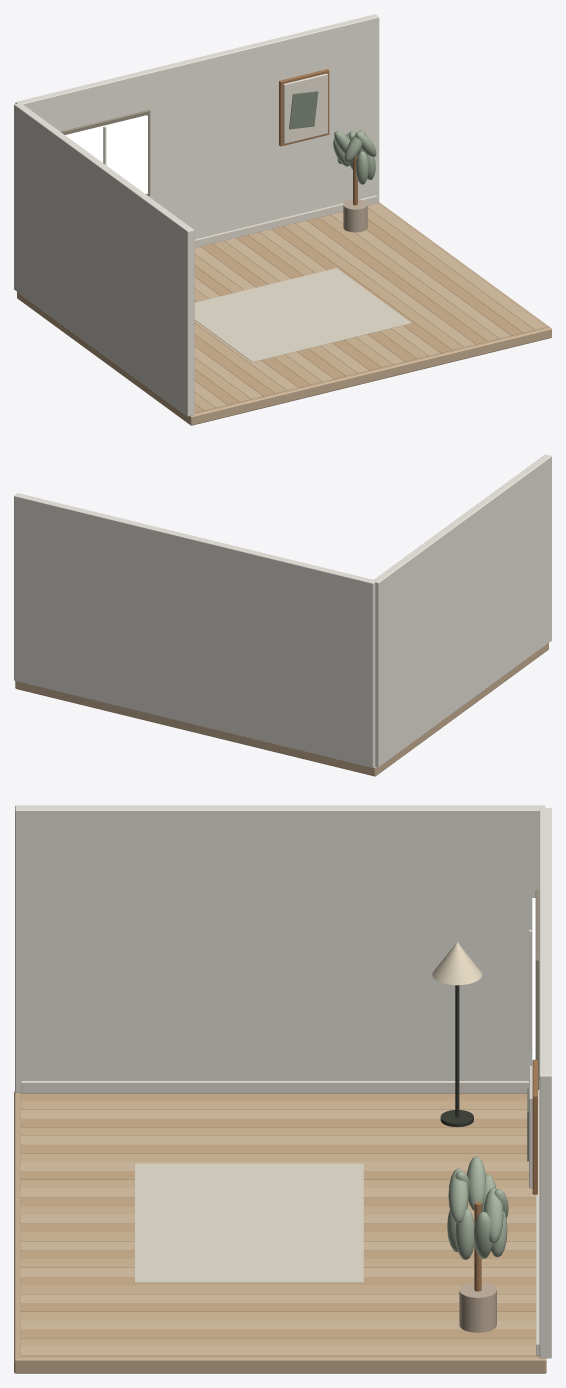
The model's file is room.glb.
The picture shows the model from 3 angles, top to bottom: view 1: azimuth 30°, elevation 25°; view 2: azimuth 150°, elevation 25°; view 3: azimuth 270°, elevation 25°; orthographic projection. The views are drawn at different scales.
Visible parts, largest first — view 1: 自制栖间房间; view 2: 自制栖间房间; view 3: 自制栖间房间.
Boxes of the visible parts, x1,y1,x2,y2 form: 自制栖间房间: (14, 14, 551, 425); 自制栖间房间: (14, 454, 551, 776); 自制栖间房间: (14, 805, 551, 1373).
Bounding box in the file's own units: 6.17 × 3.16 × 5.17.
